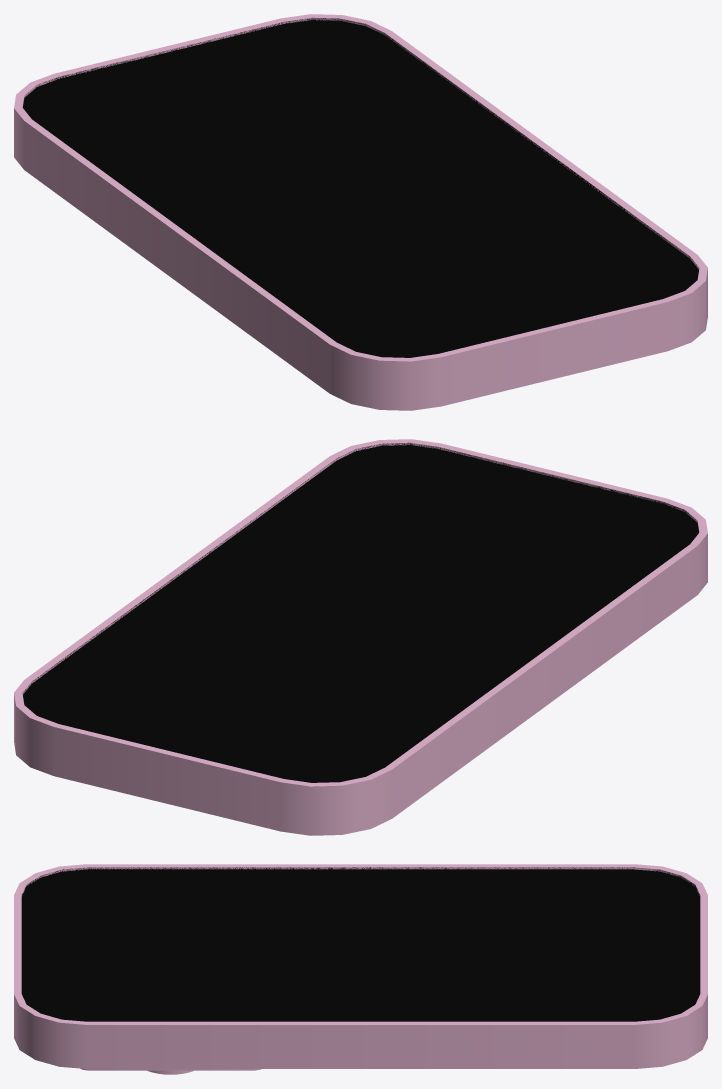
File: Telefon.fbx
The picture shows the model from 3 angles, top to bottom: view 1: azimuth 30°, elevation 25°; view 2: azimuth 150°, elevation 25°; view 3: azimuth 270°, elevation 25°; orthographic projection. The views are drawn at different scales.
Visible parts, largest first — view 1: ekran, Plane; view 2: ekran, Plane; view 3: ekran, Plane.
Part boxes in pixels (x1,y1,x2,y2): ekran: (22, 18, 698, 357); Plane: (14, 14, 707, 410); ekran: (23, 443, 698, 782); Plane: (14, 439, 707, 835); ekran: (21, 867, 700, 1021); Plane: (14, 864, 707, 1074).
Bounding box in the file's own units: 110 × 22.56 × 200.
